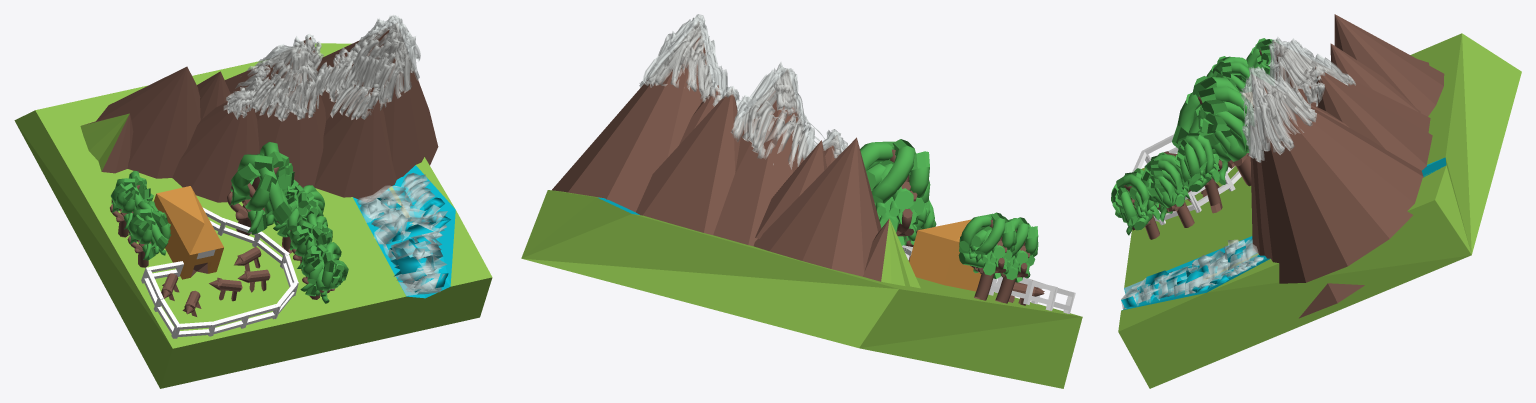
File: farm.dae
3 renders of one model, left to right at view 1: azimuth 30°, elevation 25°; view 2: azimuth 150°, elevation 25°; view 3: azimuth 270°, elevation 25°, orthographic. The views are drawn at different scales.
Parts seen in each view (by area): view 1: farm; view 2: farm; view 3: farm.
Part boxes in pixels (<box>): farm: <box>14,15,492,388</box>; farm: <box>521,14,1082,388</box>; farm: <box>1111,14,1521,388</box>.
Bounding box in the file's own units: 0.7409 × 0.5589 × 0.6798.
